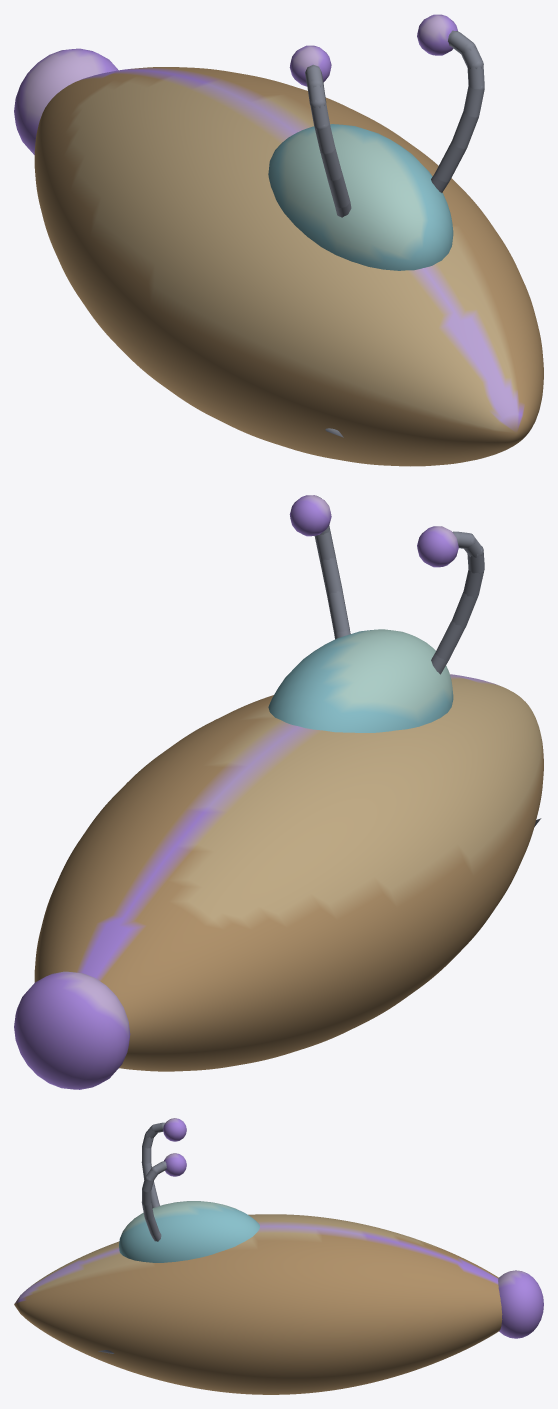
Rendered from seedpod-starfighter-1.obj.
3 views of the same model, one above another, from view 1: azimuth 30°, elevation 25°; view 2: azimuth 150°, elevation 25°; view 3: azimuth 270°, elevation 25° (orthographic). The views are drawn at different scales.
Parts seen in each view (by area): view 1: starfighter; view 2: starfighter; view 3: starfighter.
Boxes of the visible parts, <box> form: starfighter: <box>14,14,543,466</box>; starfighter: <box>14,495,543,1089</box>; starfighter: <box>14,1118,543,1394</box>.
Size of the model in its own units: 72.03 by 91.16 by 178.
